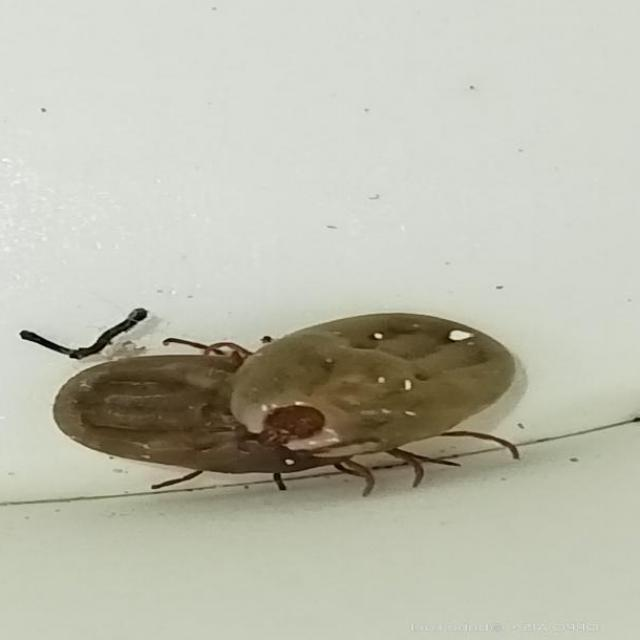Rhipicephalus Sanguineus-F-Fed: (228, 313, 529, 489)
